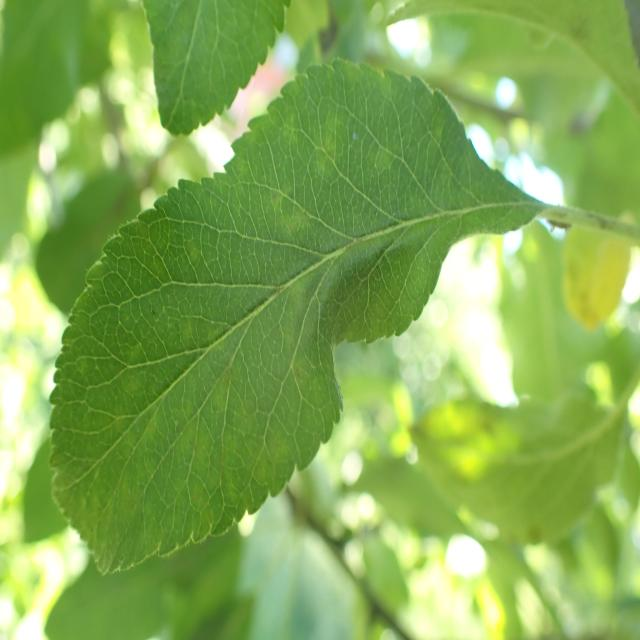scab: (62, 100, 459, 498)
